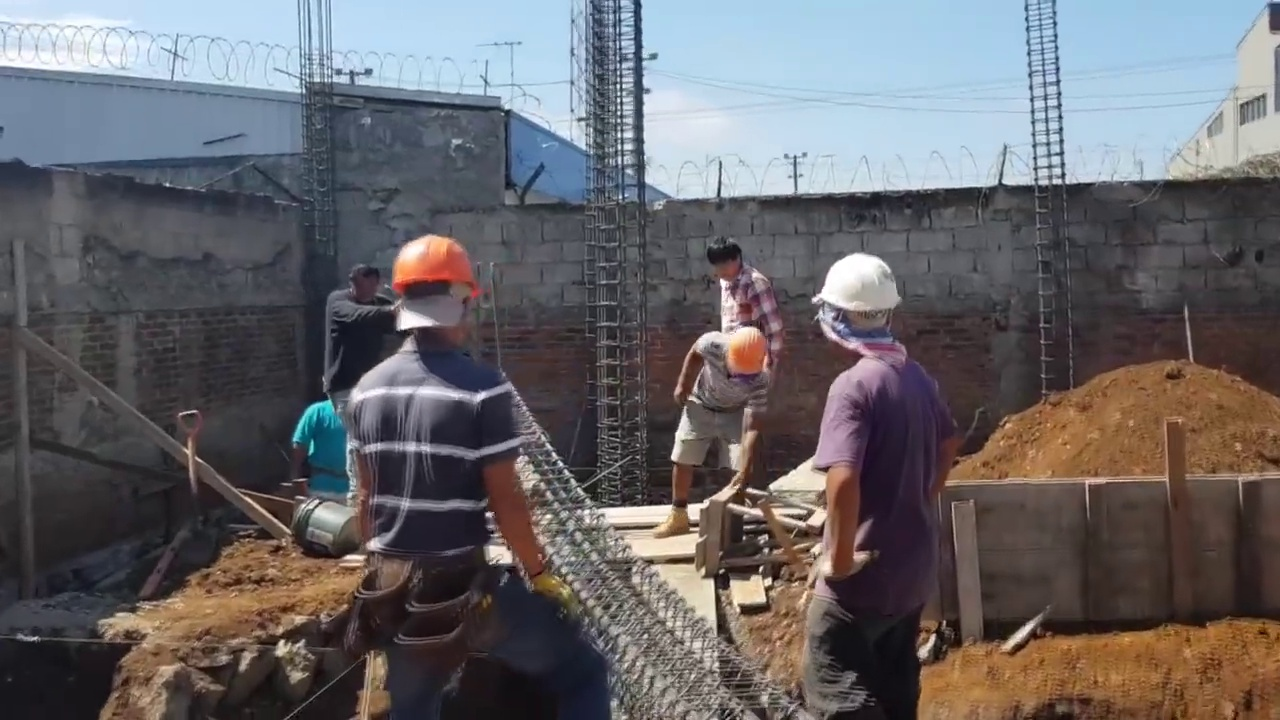helmet: (384, 233, 481, 305), (820, 256, 912, 316), (728, 328, 765, 375)
helmet-off: (708, 240, 747, 283), (342, 266, 379, 302)
helmet-on: (812, 243, 910, 365), (382, 234, 480, 355), (721, 327, 767, 382)
person: (345, 225, 578, 706), (801, 247, 957, 720), (650, 321, 767, 544), (324, 265, 401, 457), (703, 238, 789, 362), (280, 377, 343, 509)
